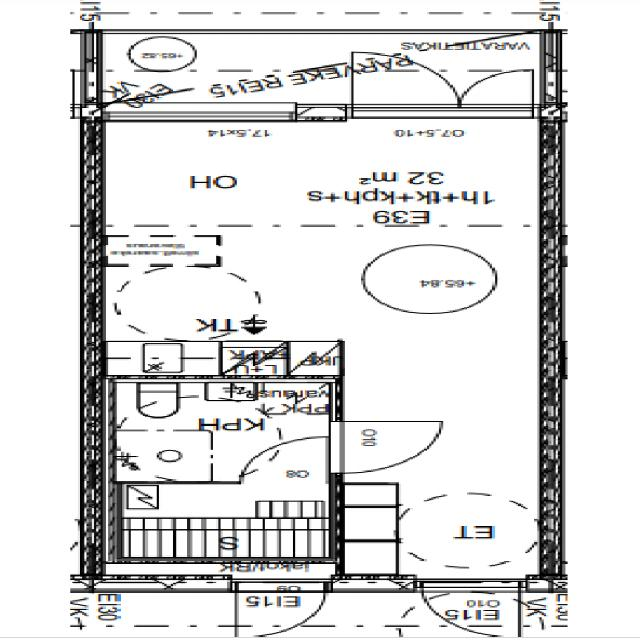door: (352, 49, 460, 121), (422, 575, 518, 640), (329, 421, 442, 472), (459, 66, 532, 121), (240, 437, 325, 483)
